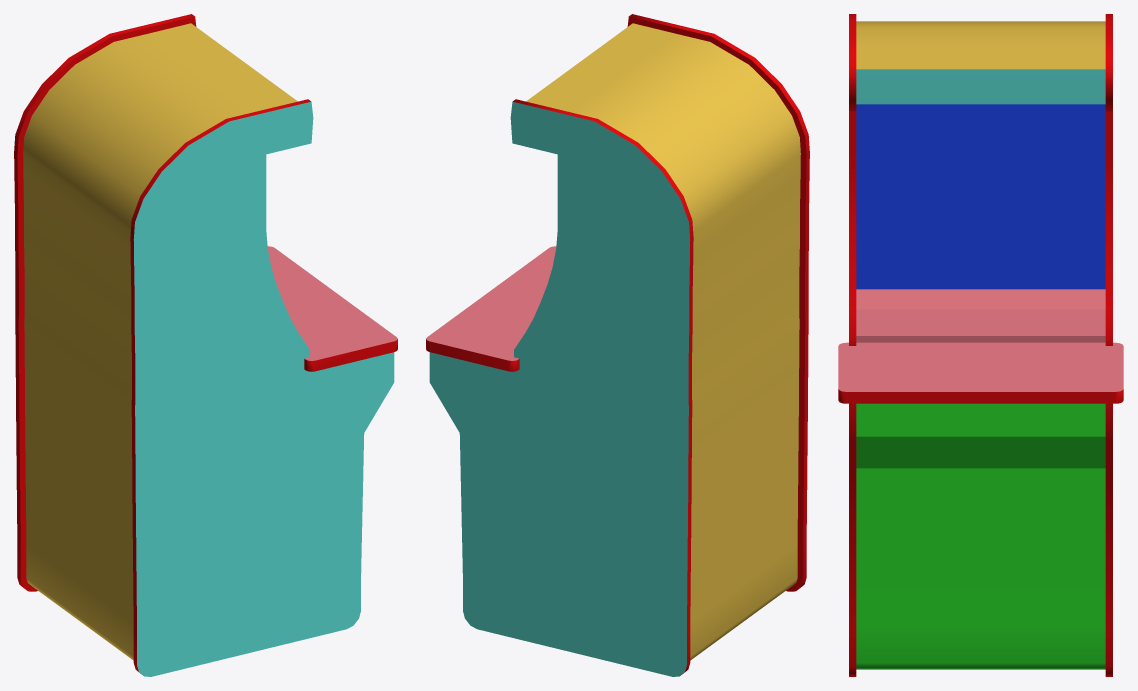
The model's file is ArcadeCabinetModel.fbx.
The picture shows the model from 3 angles, left to right: view 1: azimuth 30°, elevation 25°; view 2: azimuth 150°, elevation 25°; view 3: azimuth 270°, elevation 25°; orthographic projection. The views are drawn at different scales.
Visible parts, largest first — view 1: ArcadeCabinetModel; view 2: ArcadeCabinetModel; view 3: ArcadeCabinetModel.
Boxes of the visible parts, x1,y1,x2,y2 form: ArcadeCabinetModel: (14, 14, 397, 676); ArcadeCabinetModel: (426, 14, 809, 676); ArcadeCabinetModel: (838, 14, 1123, 676).
Size of the model in its own units: 254 by 497 by 217.
